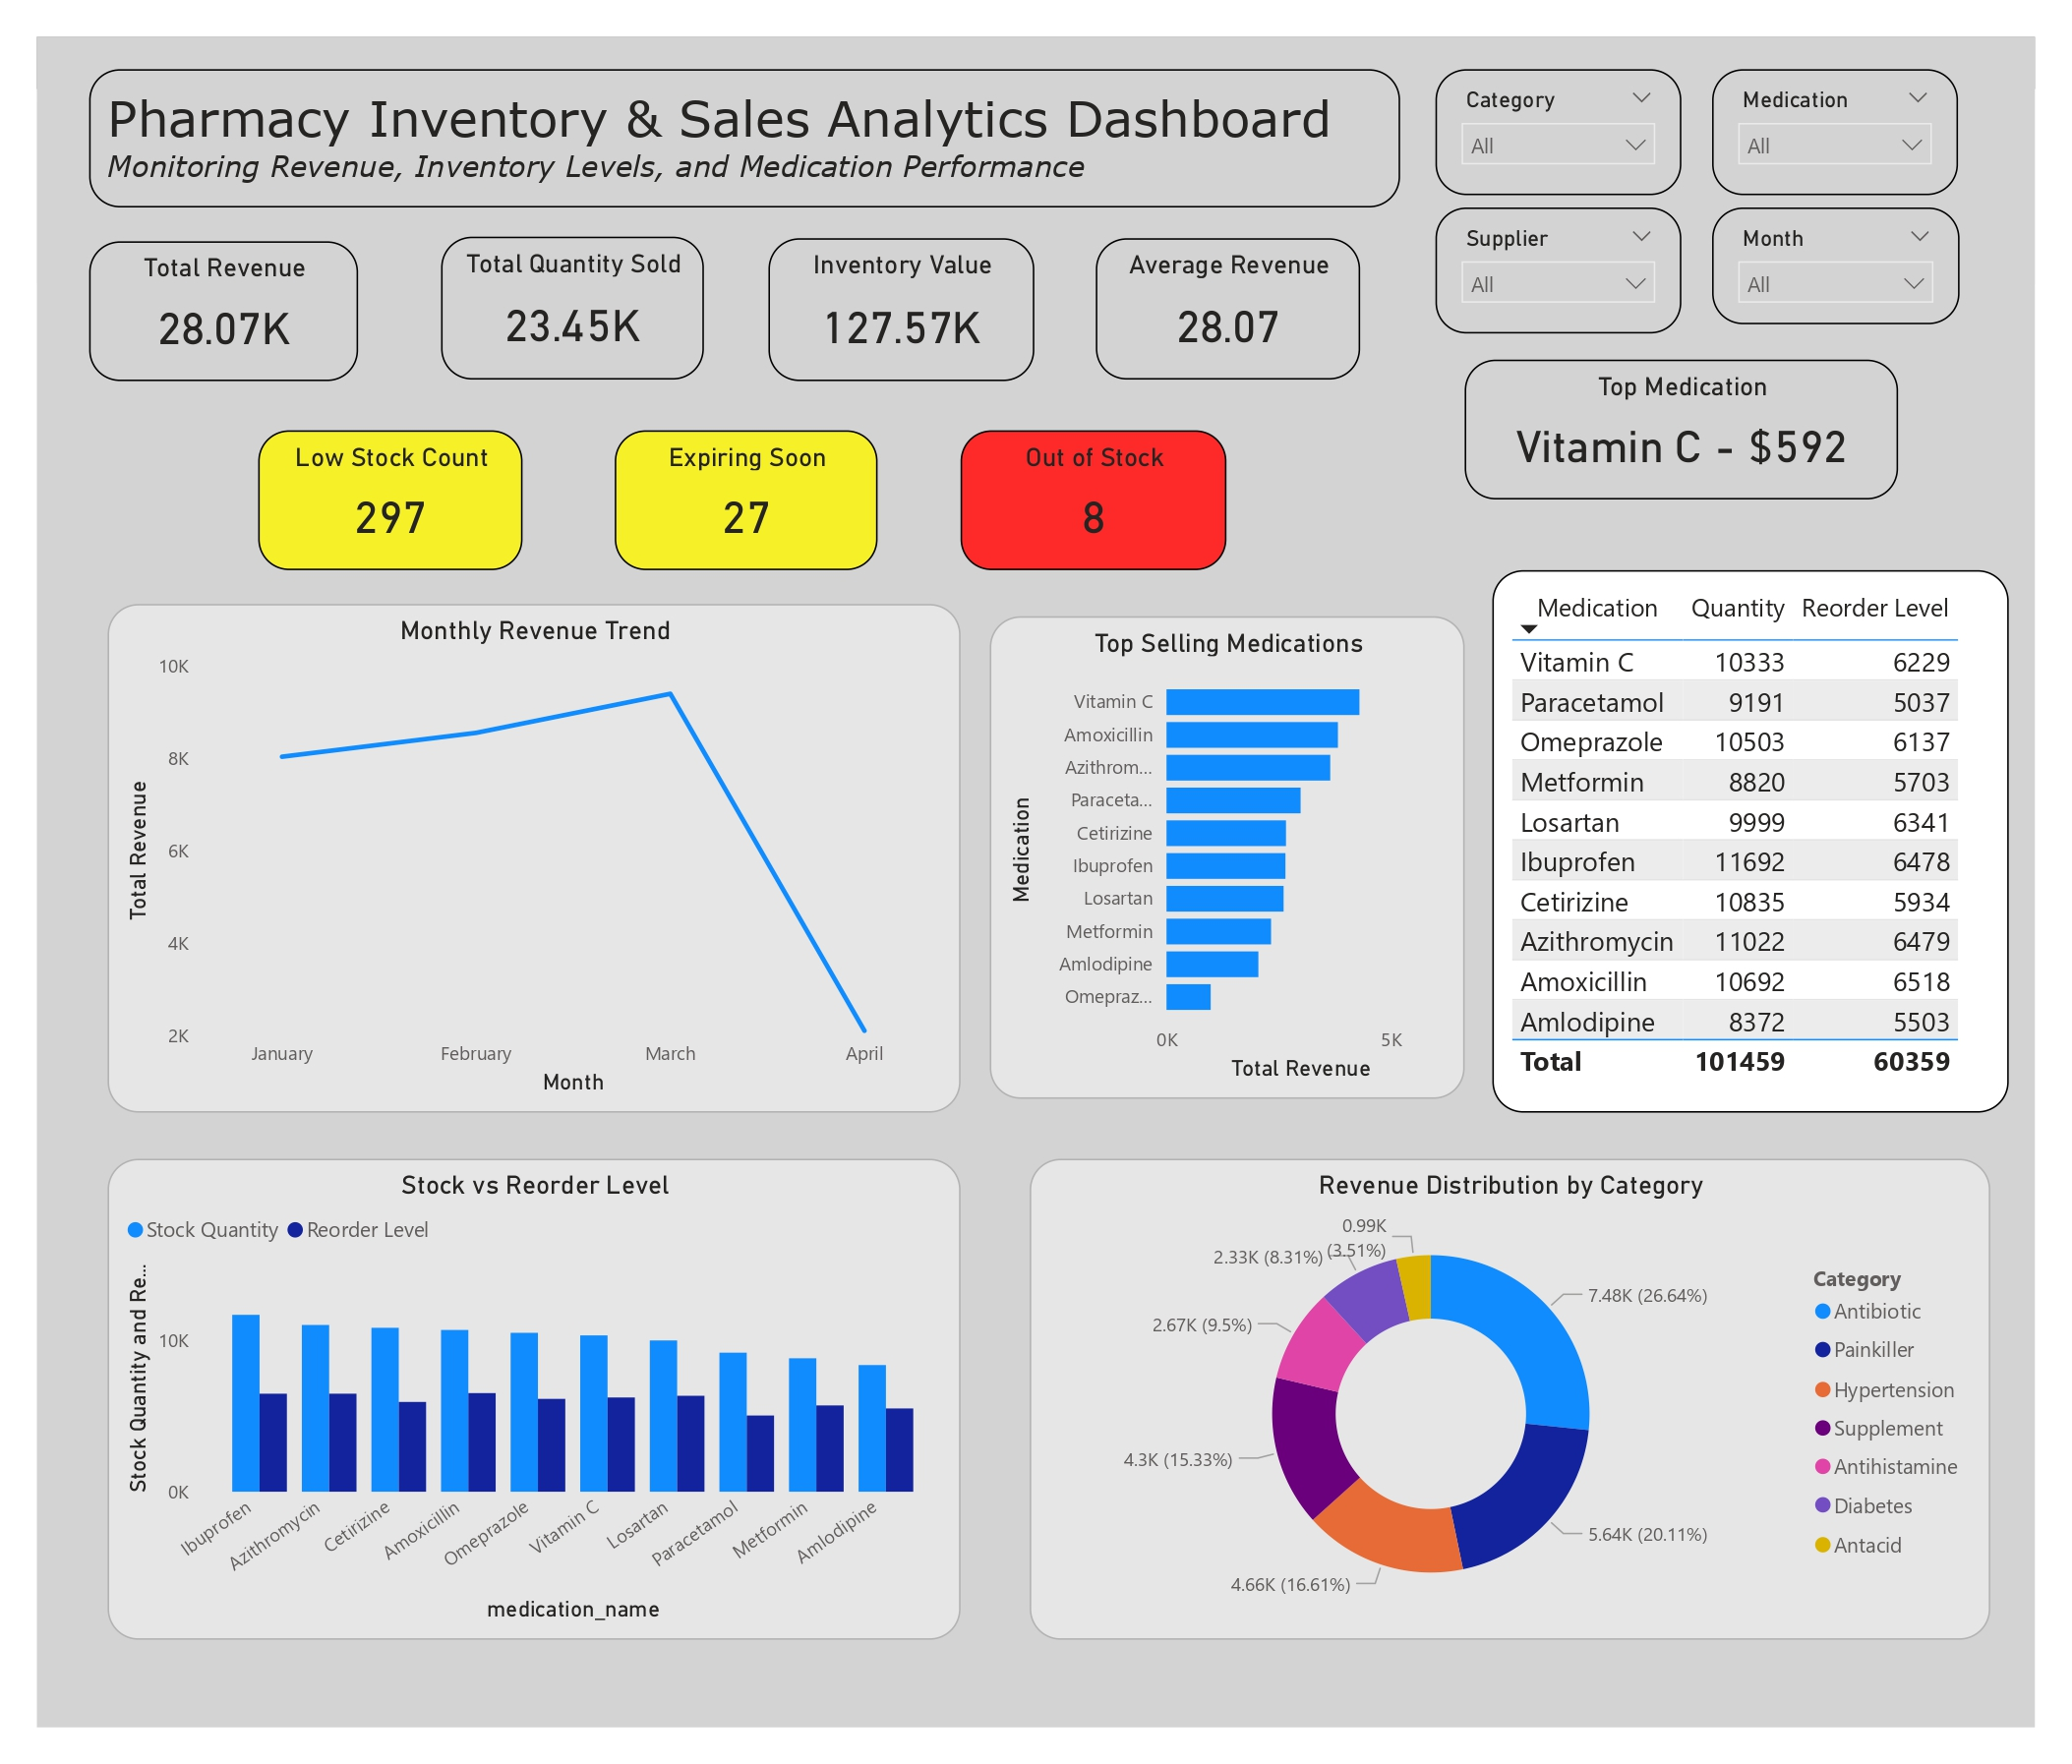

The page's visual inventory and layout, read from the dashboard file:
{"tool":"powerbi","page":{"name":"Page 1","canvas":[1310,1100],"ordinal":0},"visuals":[{"type":"textbox","box":[34.3,21.4,852.9,90],"z":0},{"type":"card","title":"Total Revenue","fields":{"Values":["meds_data.Total Revenue"]},"box":[34.3,132.9,174.3,91.4],"z":1000},{"type":"card","title":"Average Revenue","fields":{"Values":["meds_data.Avg Revenue"]},"box":[688.6,131.4,172.9,91.4],"z":2000},{"type":"card","title":"Inventory Value","fields":{"Values":["meds_data.Inventory Value"]},"box":[475.7,131.4,172.9,92.9],"z":3000},{"type":"card","title":"Total Quantity Sold","fields":{"Values":["meds_data.Total Quantity Sold"]},"box":[262.9,130,171.4,92.9],"z":4000},{"type":"card","title":"Low Stock Count","fields":{"Values":["meds_data.Low Stock Count"]},"box":[121.6,240.5,173,91.9],"z":5000},{"type":"card","title":"Expiring Soon","fields":{"Values":["meds_data.Expiring Soon"]},"box":[417.8,240,172.2,92.2],"z":6000},{"type":"card","title":"Out of Stock","fields":{"Values":["meds_data.Out of Stock"]},"box":[702.7,240.5,173,91.9],"z":7000},{"type":"card","title":"Top Medication","fields":{"Values":["meds_data.Top Medication Label"]},"box":[938.9,214.4,343.3,117.8],"z":8000},{"type":"lineChart","title":"Monthly Revenue Trend","fields":{"Category":["sales_data.sale_date.Variation.Date Hierarchy.Month"],"Y":["meds_data.Total Revenue"]},"box":[33.7,348,556.7,383.9],"z":9000},{"type":"clusteredBarChart","title":"Top Selling Medications ","fields":{"Category":["meds_data.medication_name"],"Y":["meds_data.Total Revenue"]},"box":[610.6,348,327.8,339],"z":10000},{"type":"donutChart","title":"Revenue Distribution by Category","fields":{"Category":["meds_data.category"],"Y":["meds_data.Total Revenue"]},"box":[628.6,713.9,664.5,365.9],"z":11000},{"type":"clusteredColumnChart","title":"Stock vs Reorder Level","fields":{"Category":["meds_data.medication_name"],"Y":["Sum(meds_data.stock_quantity)","Sum(meds_data.reorder_level)"]},"box":[35.9,749.8,574.7,330],"z":12000},{"type":"tableEx","fields":{"Values":["meds_data.medication_name","Sum(meds_data.stock_quantity)","Sum(meds_data.reorder_level)"]},"box":[958.6,348,334.5,339],"z":13000},{"type":"slicer","fields":{"Values":["meds_data.category"]},"box":[929.7,21.6,160.8,81.1],"z":14000},{"type":"slicer","fields":{"Values":["meds_data.medication_name"]},"box":[1121.6,21.6,159.5,81.1],"z":15000},{"type":"slicer","fields":{"Values":["meds_data.supplier"]},"box":[929.7,112.2,160.8,81.1],"z":16000},{"type":"slicer","fields":{"Values":["sales_data.sale_date.Variation.Date Hierarchy.Month"]},"box":[1120.3,112.2,160.8,81.1],"z":17000}]}

Visuals, with their boxes in screenshot pixels (x1, y1, x2, y2), scaled from the page's 1310x1100 canvas onto the 2072x1764 screenshot:
textbox: x1=54, y1=34, x2=1403, y2=179
"Total Revenue" card: x1=54, y1=213, x2=330, y2=360
"Average Revenue" card: x1=1090, y1=210, x2=1363, y2=357
"Inventory Value" card: x1=752, y1=210, x2=1026, y2=360
"Total Quantity Sold" card: x1=416, y1=208, x2=687, y2=358
"Low Stock Count" card: x1=193, y1=385, x2=466, y2=533
"Expiring Soon" card: x1=661, y1=384, x2=933, y2=533
"Out of Stock" card: x1=1111, y1=385, x2=1385, y2=533
"Top Medication" card: x1=1485, y1=344, x2=2028, y2=533
"Monthly Revenue Trend" lineChart: x1=53, y1=559, x2=934, y2=1174
"Top Selling Medications " clusteredBarChart: x1=966, y1=559, x2=1484, y2=1101
"Revenue Distribution by Category" donutChart: x1=994, y1=1145, x2=2045, y2=1732
"Stock vs Reorder Level" clusteredColumnChart: x1=57, y1=1203, x2=966, y2=1732
tableEx - meds_data.medication_name x Sum(meds_data.stock_quantity): x1=1516, y1=559, x2=2045, y2=1101
slicer - meds_data.category: x1=1470, y1=34, x2=1725, y2=164
slicer - meds_data.medication_name: x1=1774, y1=34, x2=2027, y2=164
slicer - meds_data.supplier: x1=1470, y1=180, x2=1725, y2=310
slicer - sales_data.sale_date.Variation.Date Hierarchy.Month: x1=1772, y1=180, x2=2027, y2=310
